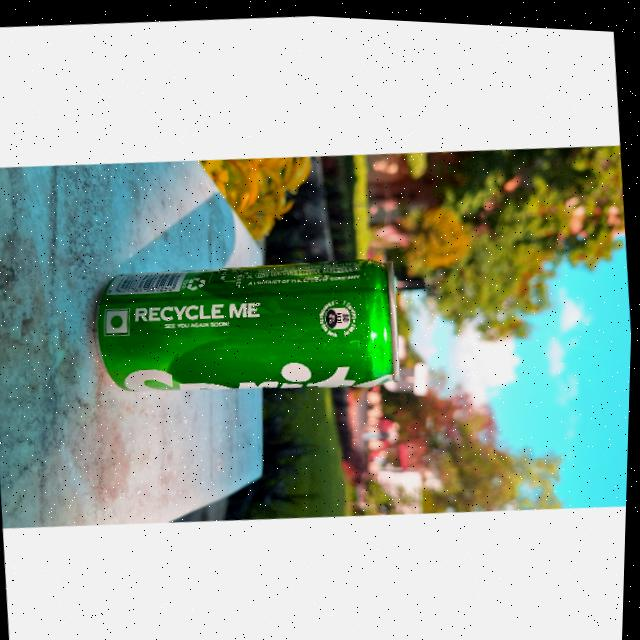Sprite: (88, 241, 406, 412)
